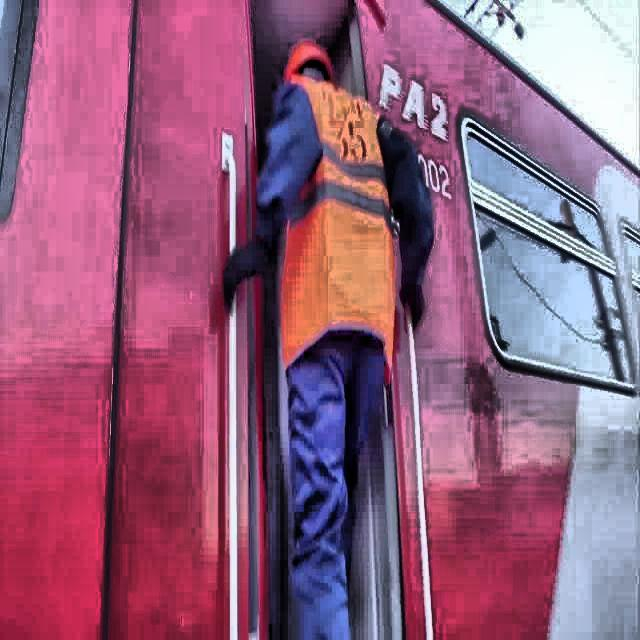safety_jacket: (280, 70, 396, 384)
